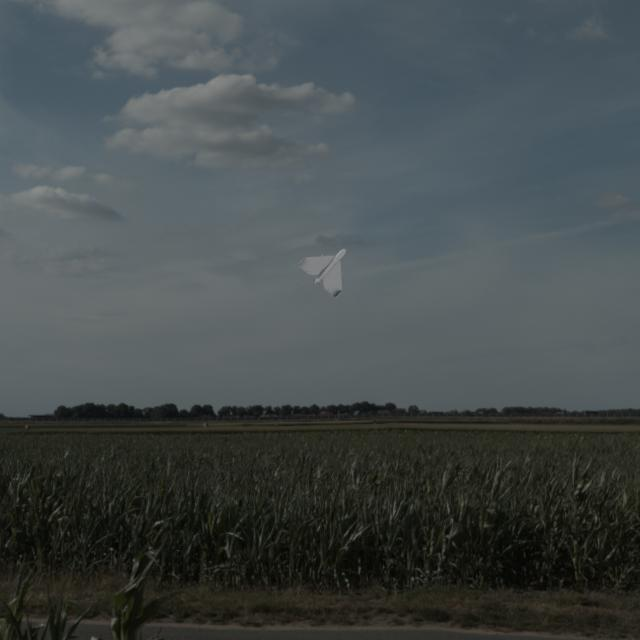Airaplan: (298, 249, 346, 299)
